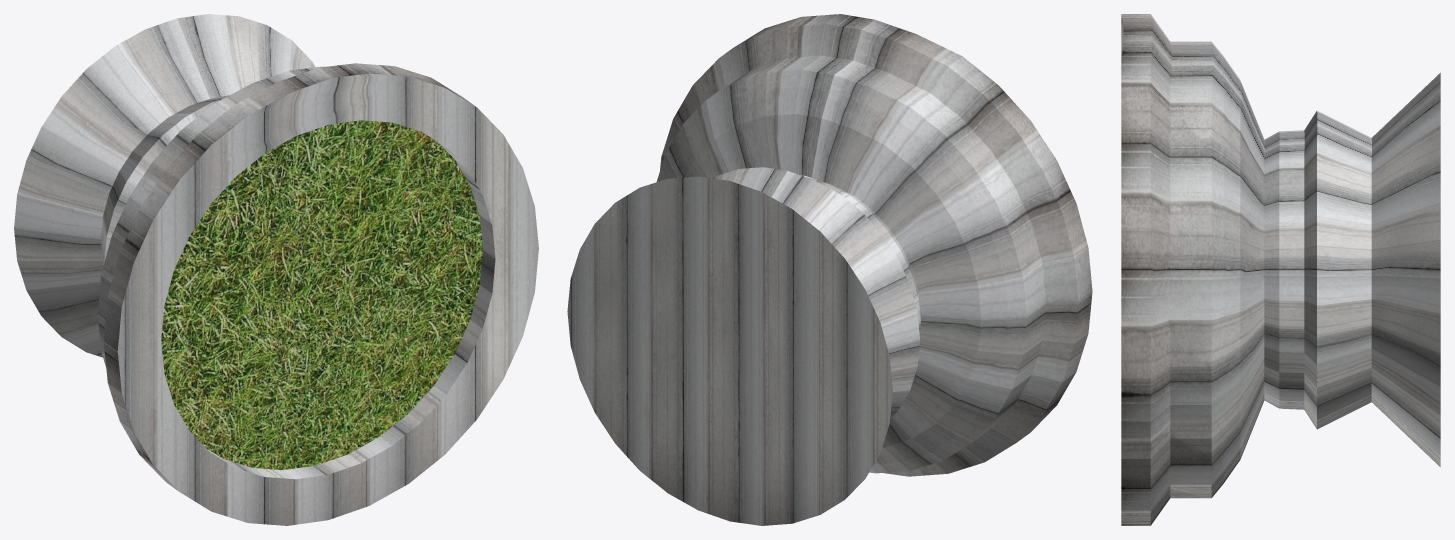
File: Gorshok56.fbx
The picture shows the model from 3 angles, left to right: view 1: azimuth 30°, elevation 25°; view 2: azimuth 150°, elevation 25°; view 3: azimuth 270°, elevation 25°; orthographic projection. The views are drawn at different scales.
Parts seen in each view (by area): view 1: Цилиндр.001; view 2: Цилиндр.001; view 3: Цилиндр.001.
Part boxes in pixels (x1,y1,x2,y2): Цилиндр.001: (14,14,538,525); Цилиндр.001: (567,14,1092,525); Цилиндр.001: (1121,14,1440,525).
Bounding box in the file's own units: 211 × 211 × 131.
